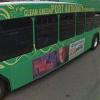Bus: (1, 1, 98, 91)
